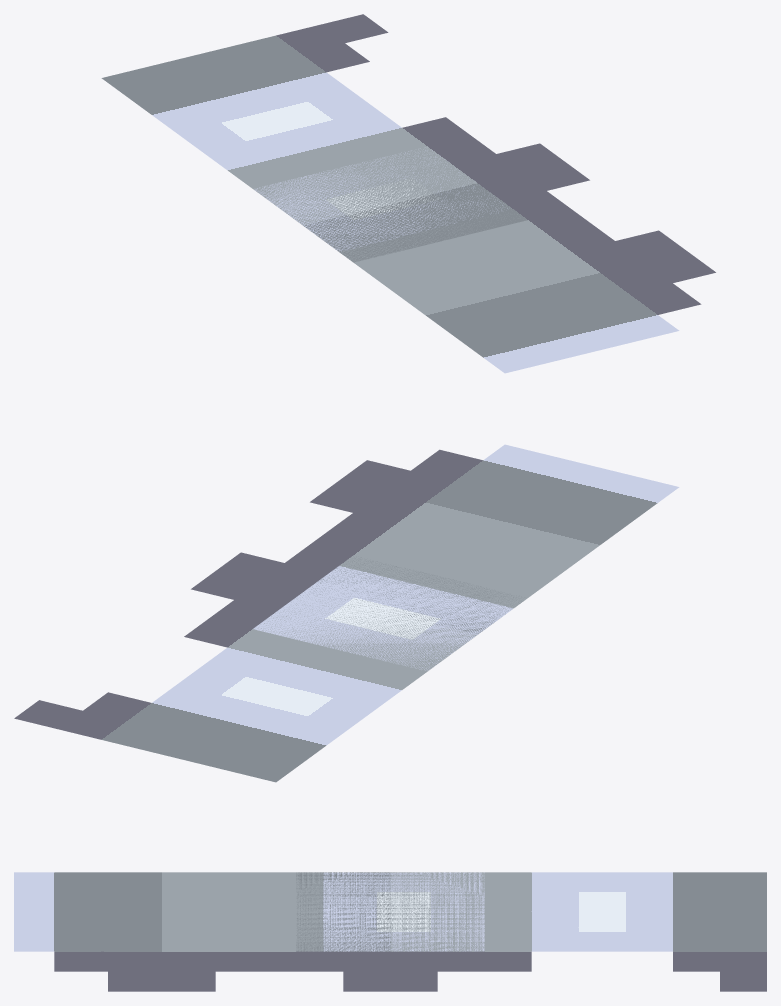
The picture shows the model from 3 angles, top to bottom: view 1: azimuth 30°, elevation 25°; view 2: azimuth 150°, elevation 25°; view 3: azimuth 270°, elevation 25°; orthographic projection. The views are drawn at different scales.
Bounding box in the file's own units: 0.5 × 0 × 1.
1 material, 1 textured.
